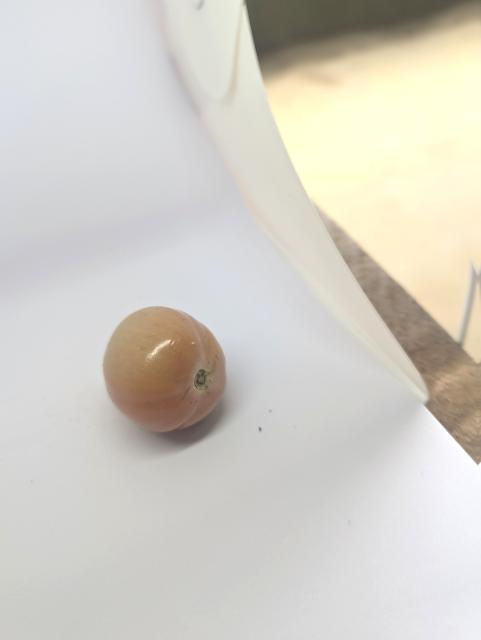turning: (91, 296, 241, 441)
